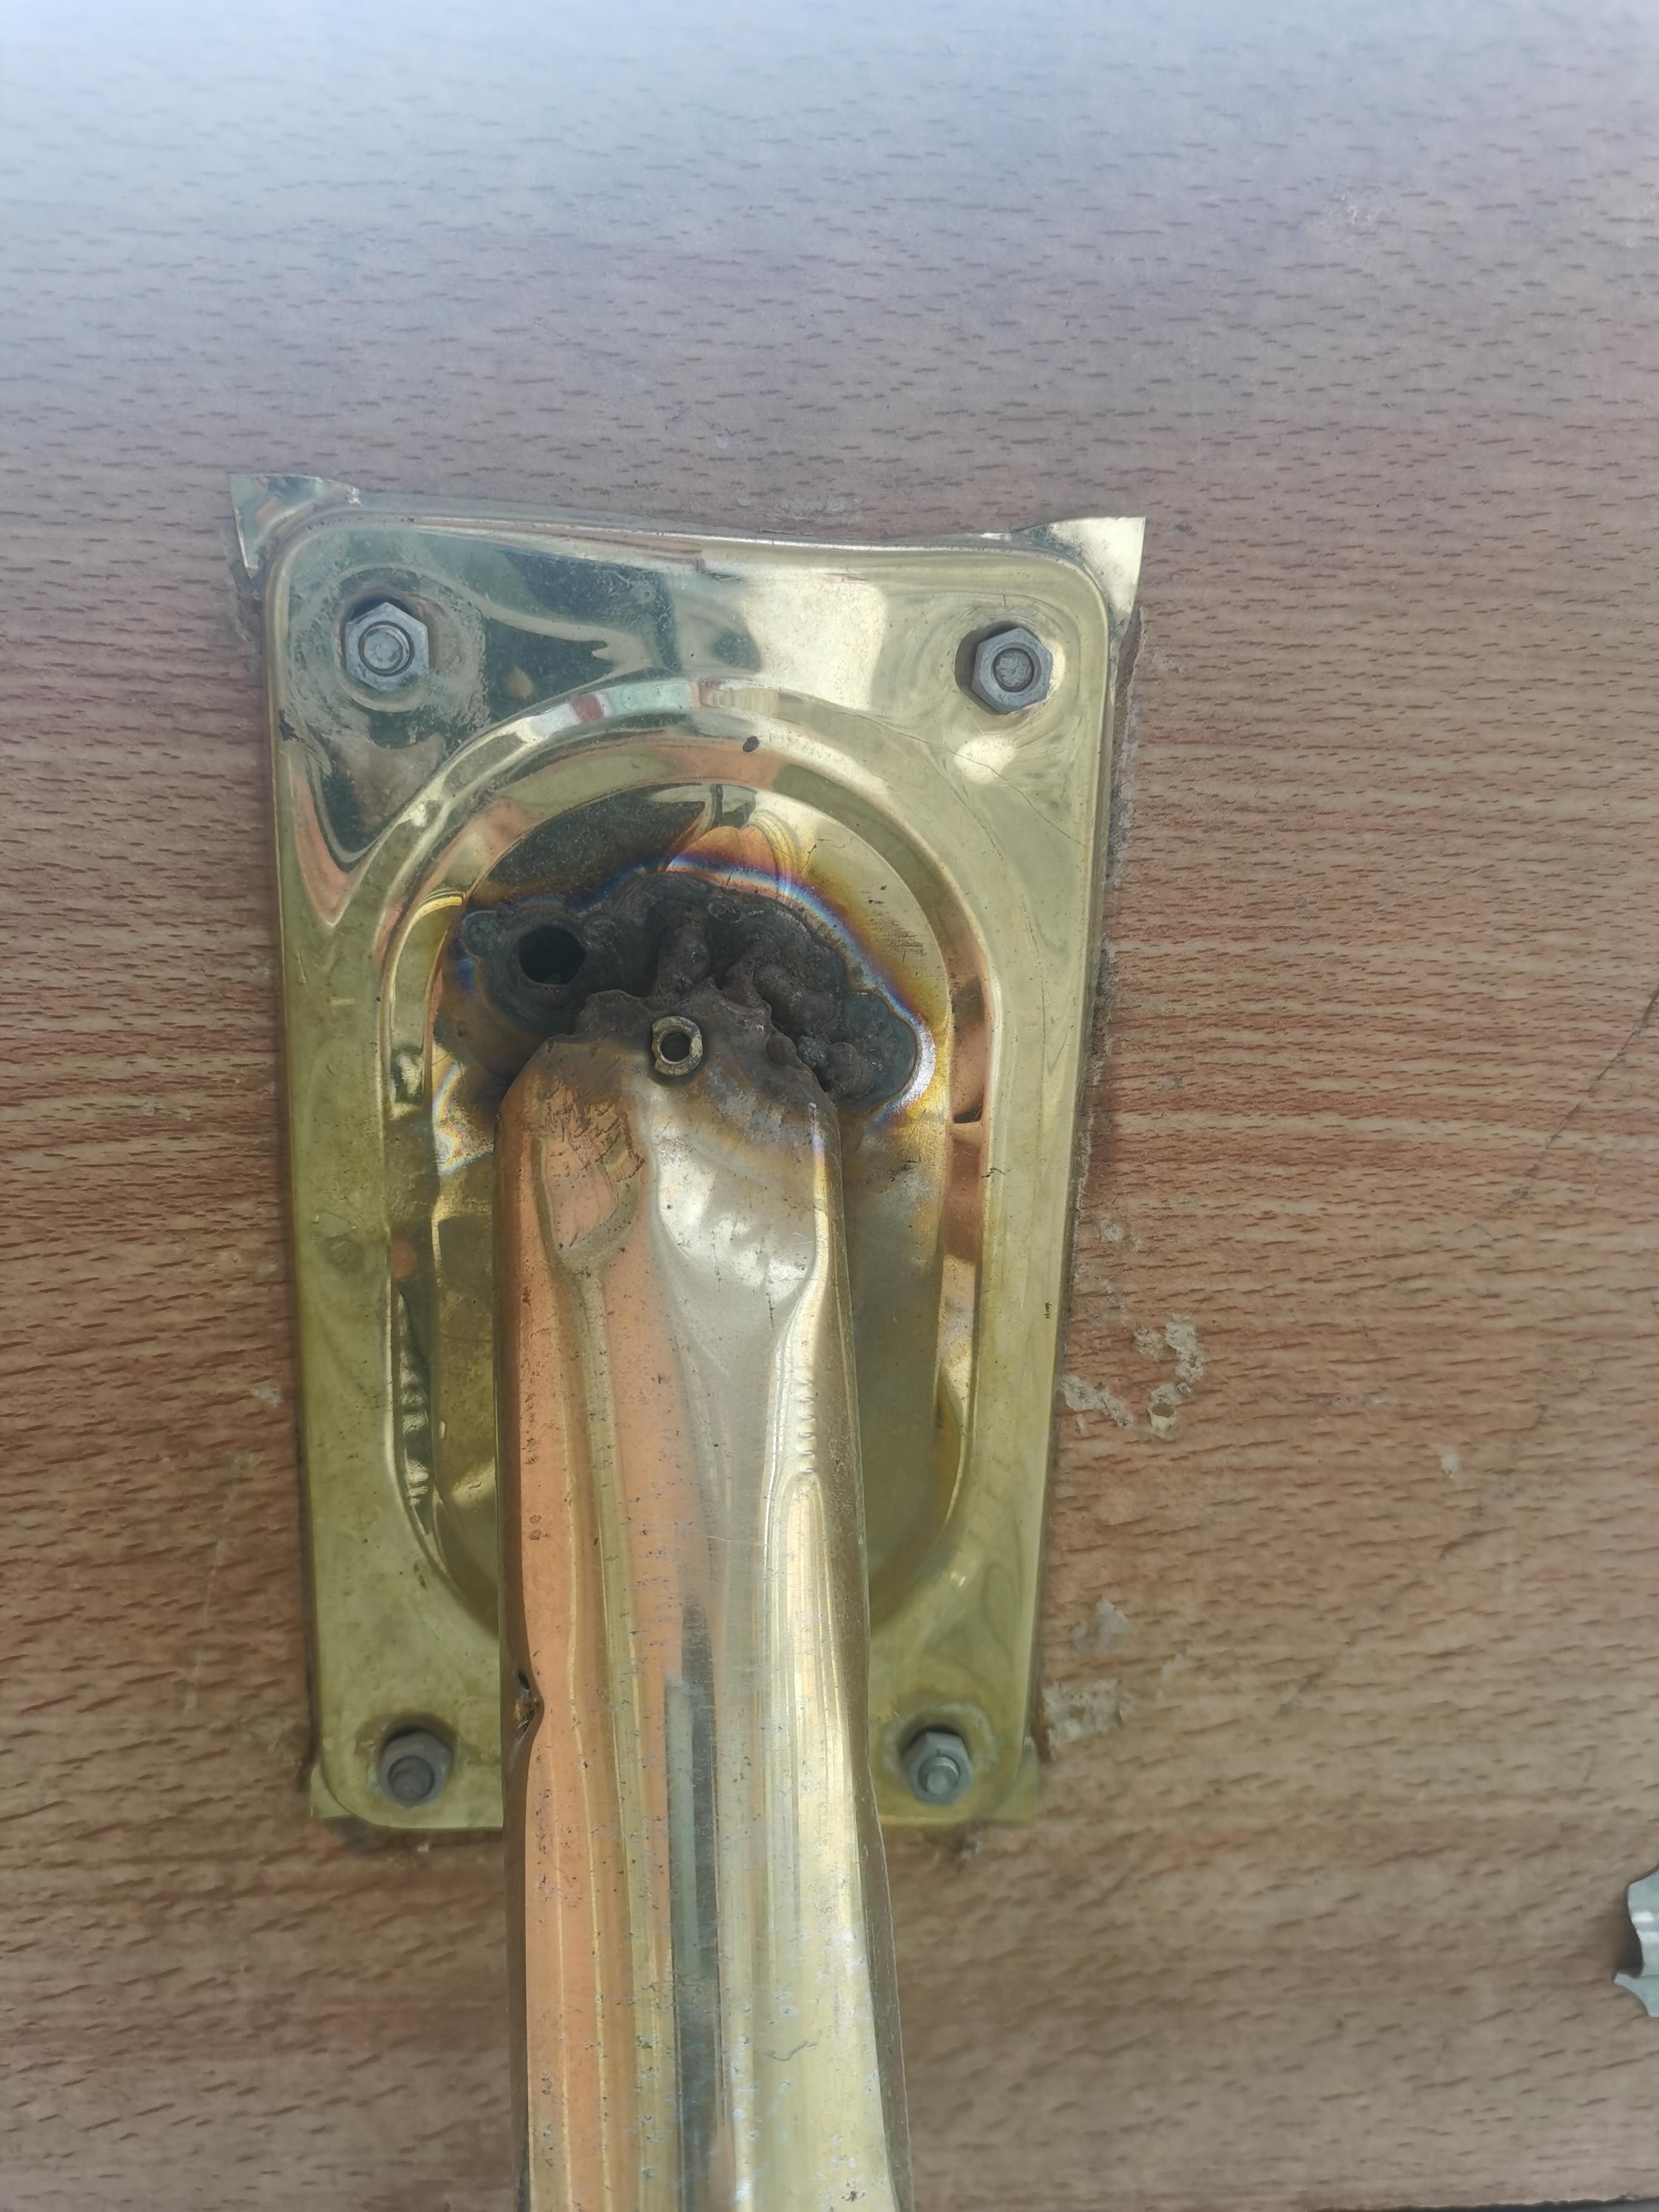bolt_b: (342, 594, 434, 698), (964, 625, 1060, 718), (896, 1726, 979, 1810), (375, 1730, 457, 1815)
